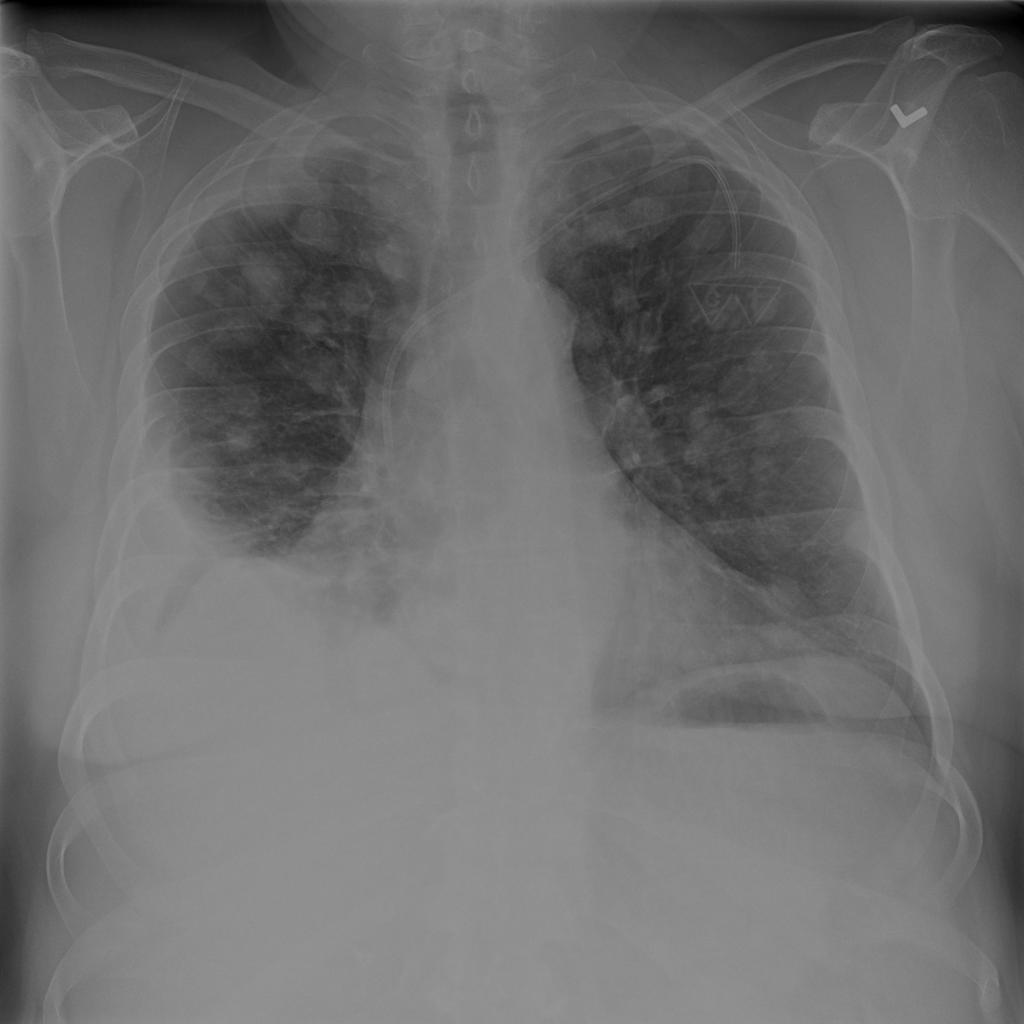nodule: (732, 562, 822, 660), (230, 159, 310, 230), (232, 241, 304, 312), (716, 347, 786, 418), (673, 398, 740, 471), (600, 185, 675, 249), (287, 193, 352, 263), (744, 276, 794, 332), (679, 206, 735, 255), (328, 271, 381, 321), (210, 411, 266, 458), (292, 356, 345, 403), (604, 289, 656, 336), (562, 306, 608, 359), (172, 337, 220, 385), (181, 264, 220, 301)
